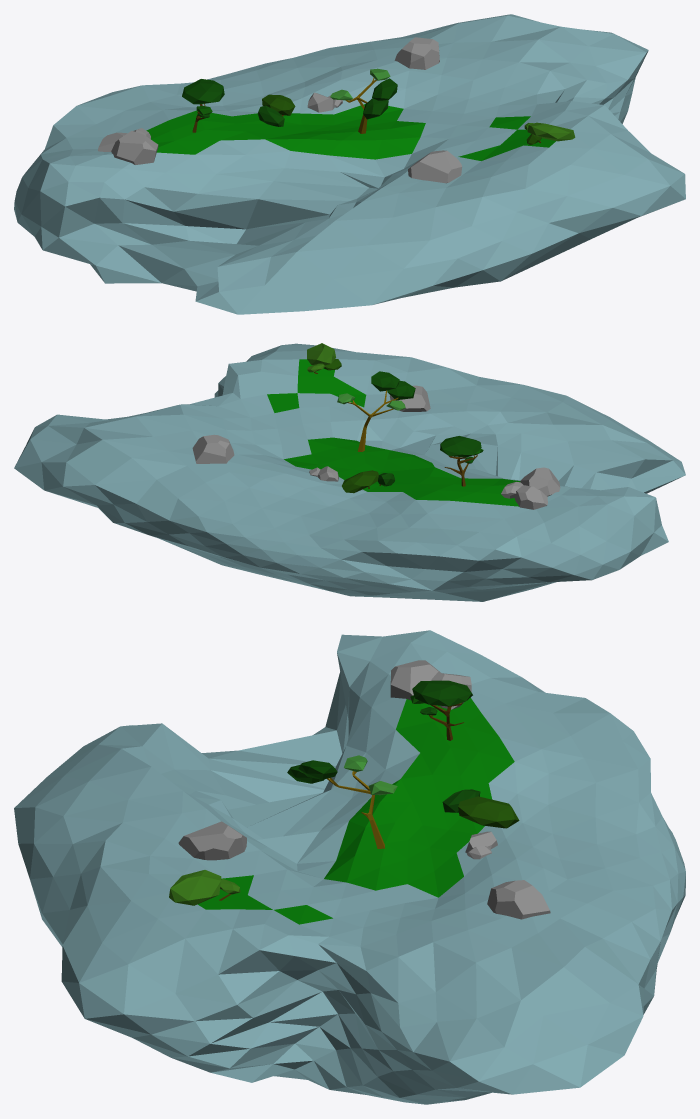
Rendered from Island1_Mod.fbx.
3 renders of one model, top to bottom at view 1: azimuth 30°, elevation 25°; view 2: azimuth 150°, elevation 25°; view 3: azimuth 270°, elevation 25°, orthographic. The views are drawn at different scales.
Visible parts, largest first — view 1: Icosphere.002; view 2: Icosphere.002; view 3: Icosphere.002.
Part boxes in pixels (x1,y1,x2,y2): Icosphere.002: (14,14,685,314); Icosphere.002: (14,343,685,601); Icosphere.002: (14,630,685,1104).
Bounding box in the file's own units: 6434 × 1611 × 4461.
